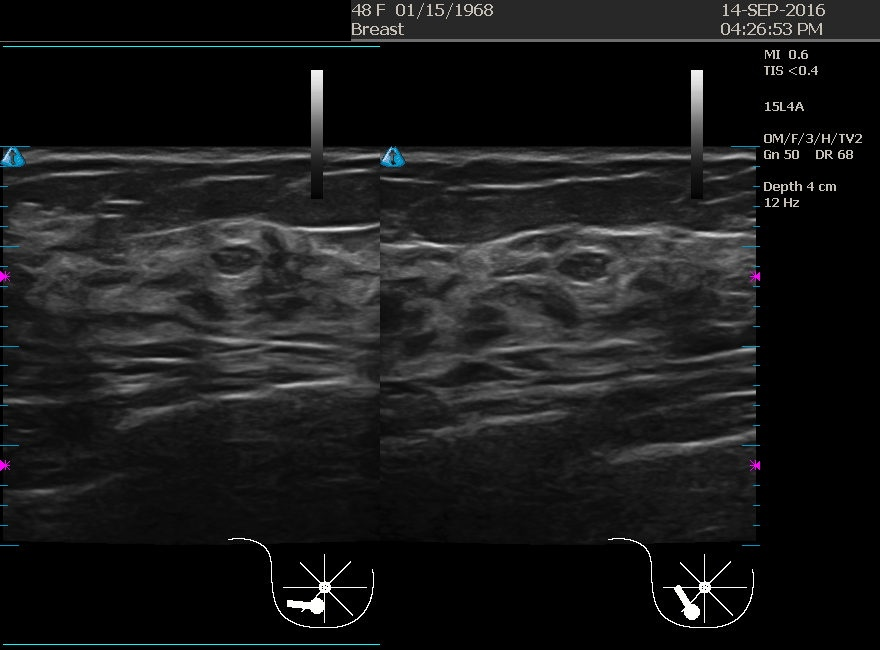BIRADS_2: (151, 204, 343, 396), (488, 182, 680, 374)
